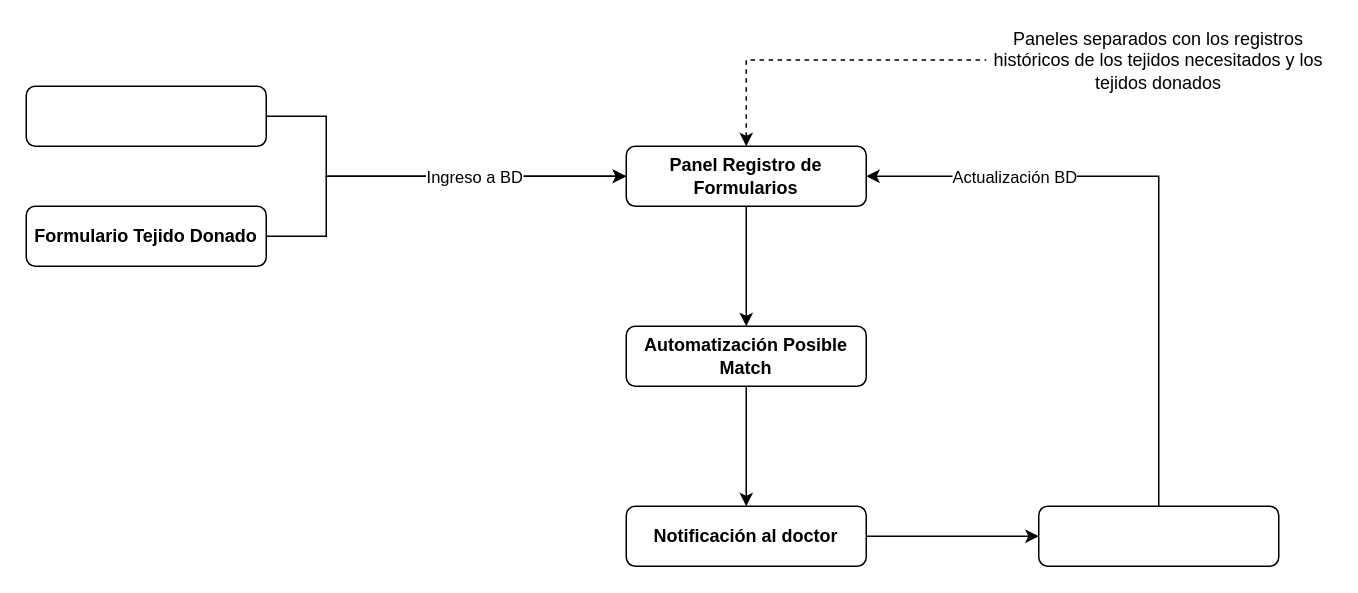
Image size: 1358x593. Some labels were removed from this diagram. Each missing label, with the centre of its shape:
Confirmación de donante: [1158,535]
Formulario Tejido Necesitado: [145,115]
